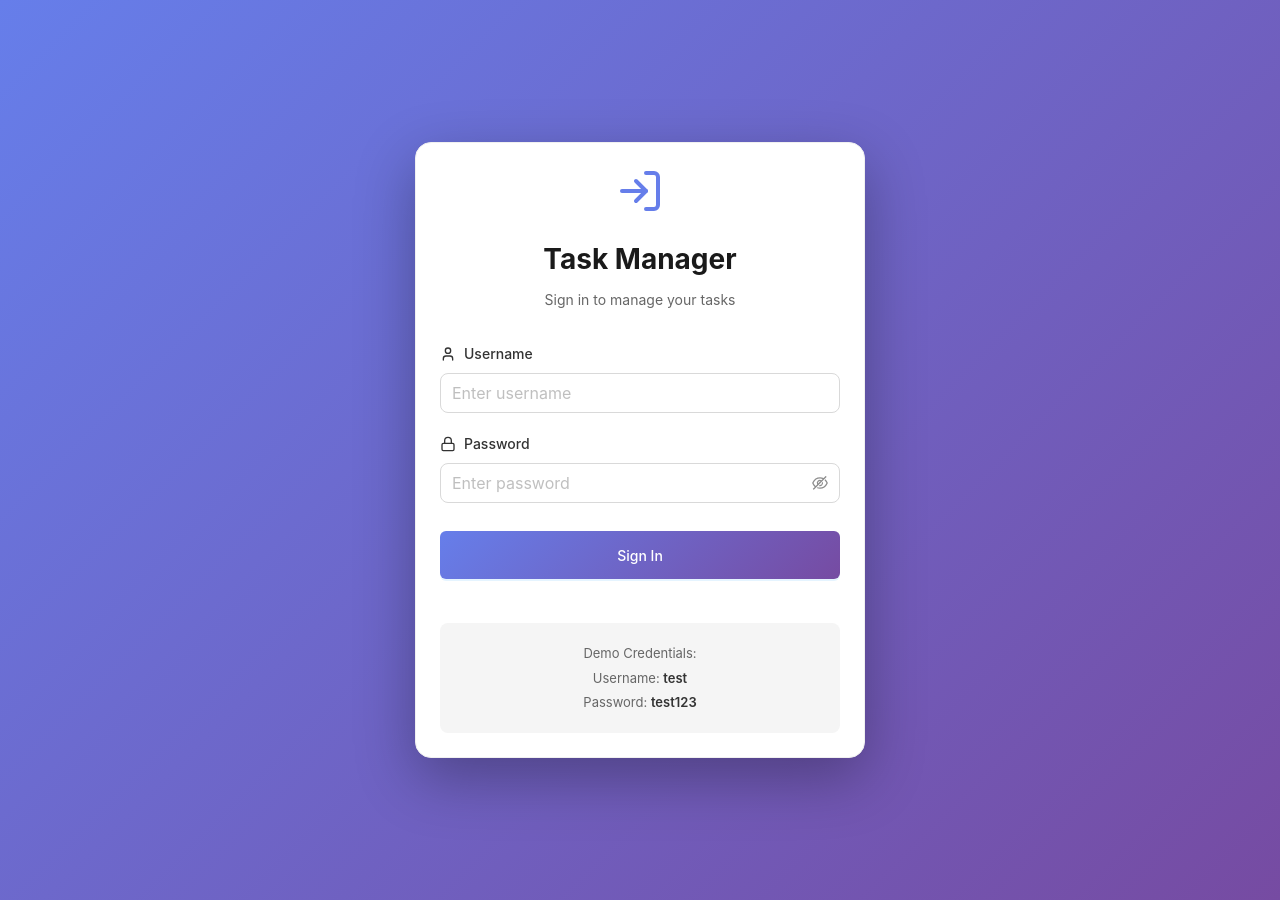
it: Login › should show validation error for short password
The image size is (1280, 900).
Type "test" into the field labelled "Username" at (640, 393), box [440,373,840,413]
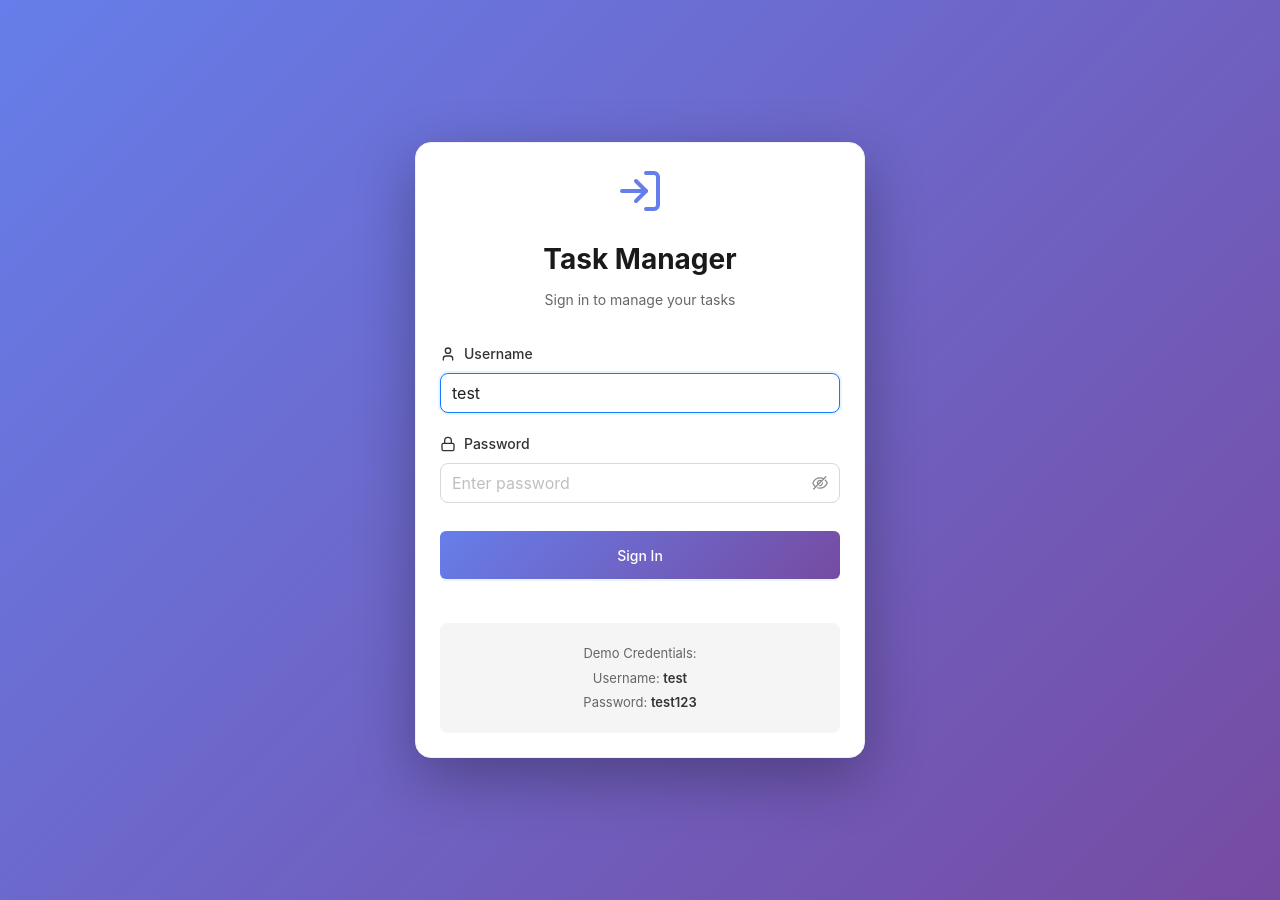
Type "12345" into the password field labelled "Password" at (630, 483), box [452,471,808,495]
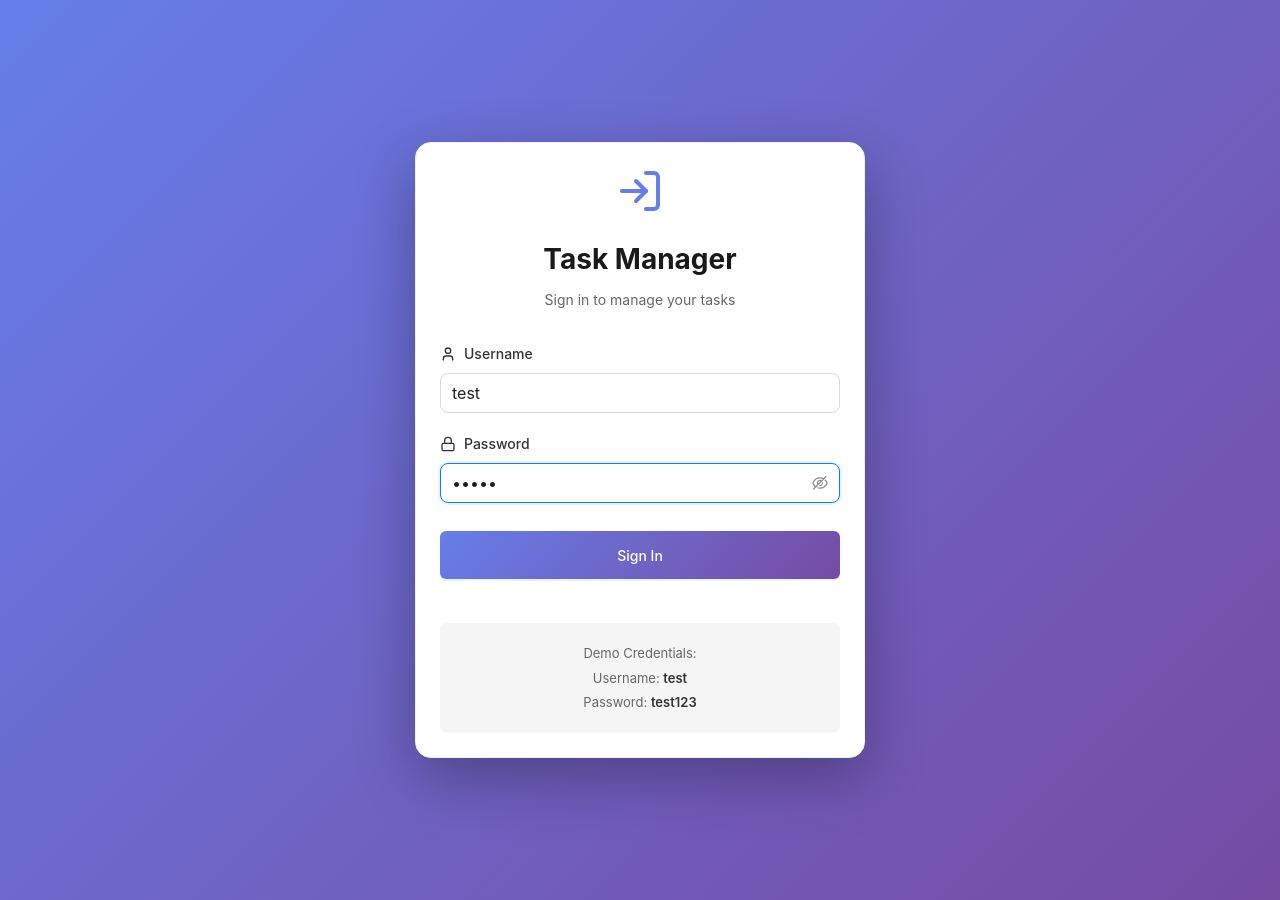
Click the button "Sign In" at (640, 555), box [440,531,840,579]
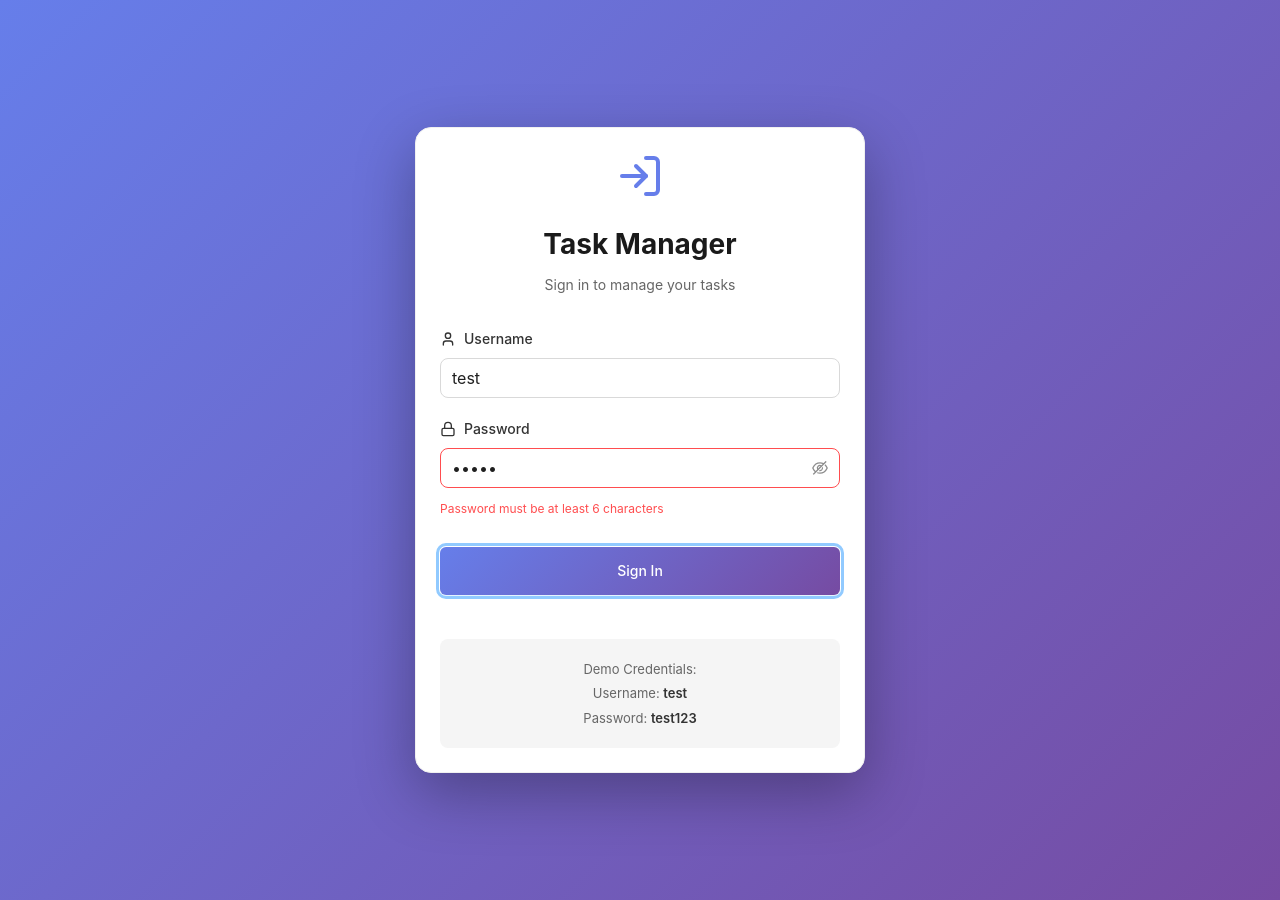
Expected: the text "Password must be at least 6 characters" is shown, [440,501,664,516]
